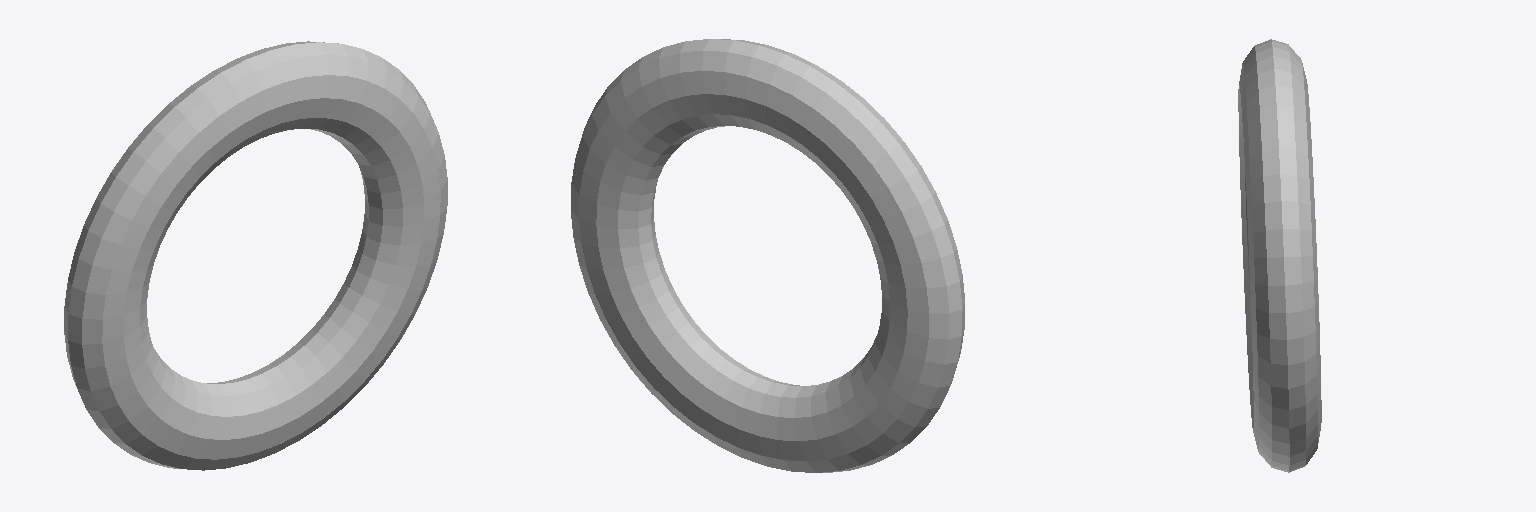
Rendered from knightcircle.obj.
3 views of the same model, side by side, from view 1: azimuth 30°, elevation 25°; view 2: azimuth 150°, elevation 25°; view 3: azimuth 270°, elevation 25° (orthographic).
Visible parts, largest first — view 1: Torus; view 2: Torus; view 3: Torus.
Part boxes in pixels (x1,y1,x2,y2): Torus: (64, 41, 447, 470); Torus: (571, 39, 964, 472); Torus: (1238, 39, 1321, 472).
Size of the model in its own units: 3.49 by 3.58 by 0.6575.